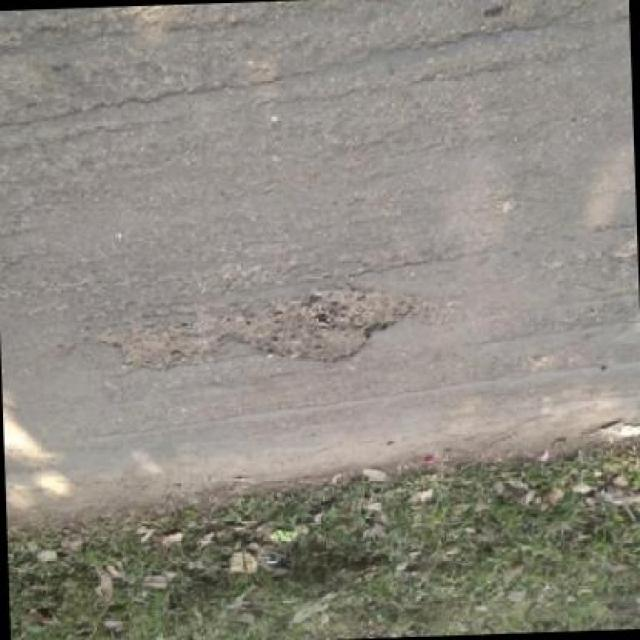pothole1: (106, 284, 428, 378)
